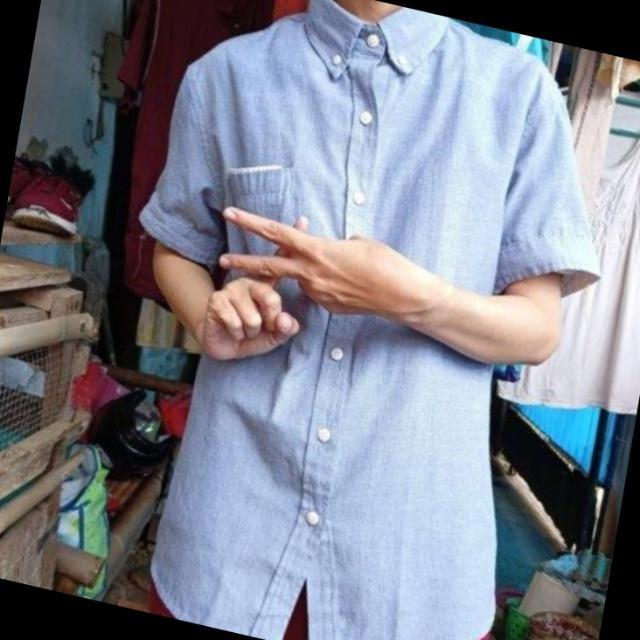F: (205, 201, 356, 371)
